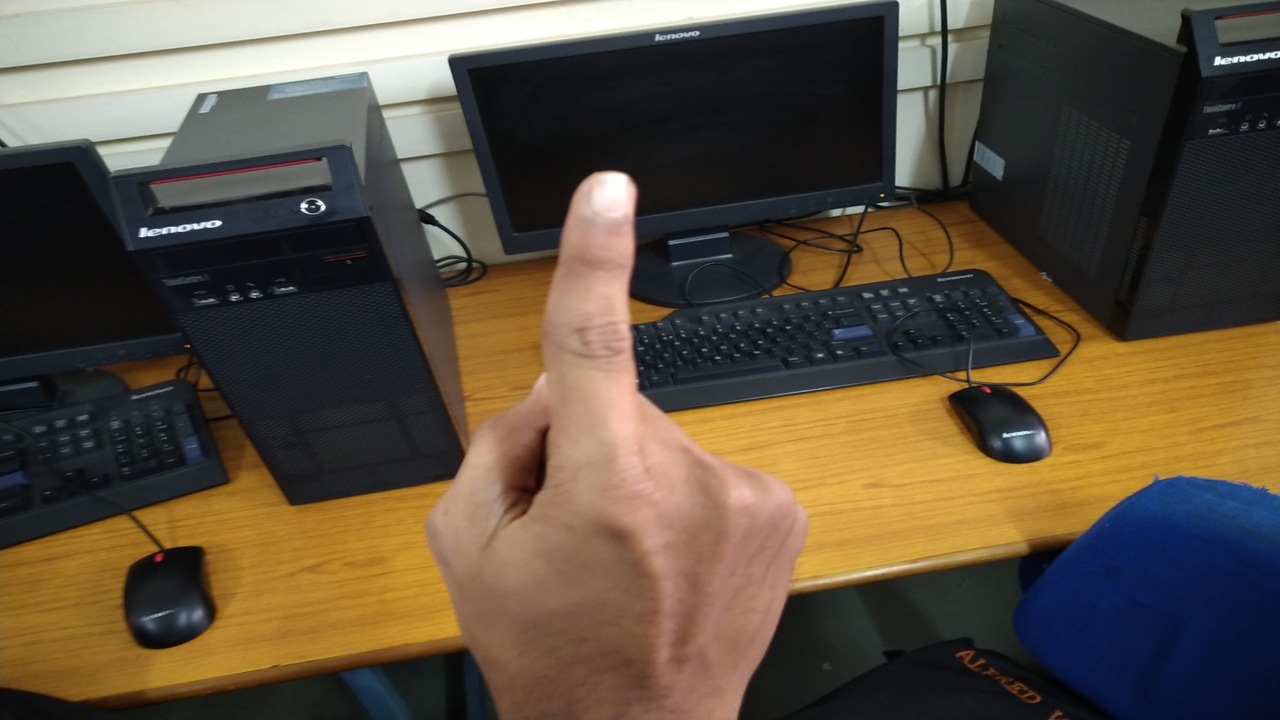fingertip: (564, 166, 644, 238)
